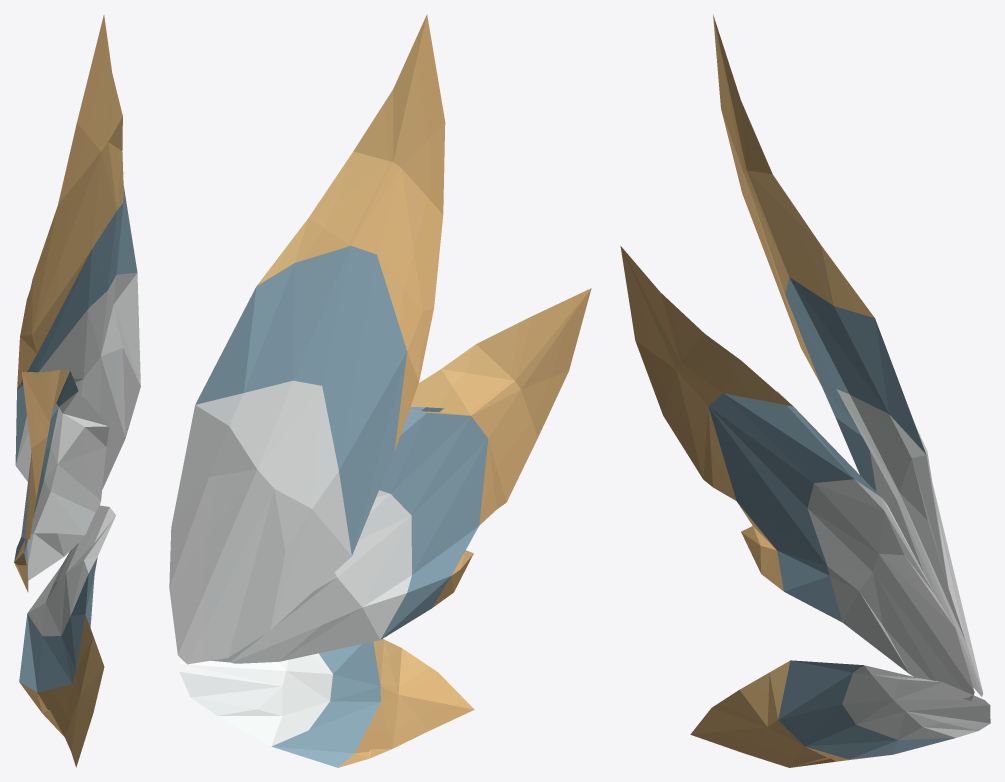
Rendered from CharSkyKid_Horn_AP12DeluxeFeather_01.glb.
3 renders of one model, left to right at view 1: azimuth 30°, elevation 25°; view 2: azimuth 150°, elevation 25°; view 3: azimuth 270°, elevation 25°, orthographic. The views are drawn at different scales.
Visible parts, largest first — view 1: CharSkyKid_Horn_AP12DeluxeFeather_01; view 2: CharSkyKid_Horn_AP12DeluxeFeather_01; view 3: CharSkyKid_Horn_AP12DeluxeFeather_01.
Boxes of the visible parts, bbox=[...] form: CharSkyKid_Horn_AP12DeluxeFeather_01: bbox=[14, 15, 140, 767]; CharSkyKid_Horn_AP12DeluxeFeather_01: bbox=[169, 14, 591, 767]; CharSkyKid_Horn_AP12DeluxeFeather_01: bbox=[620, 14, 990, 767].
Size of the model in its own units: 0.9842 by 2.5 by 1.11.
Materials: 1 (1 with a texture image).
